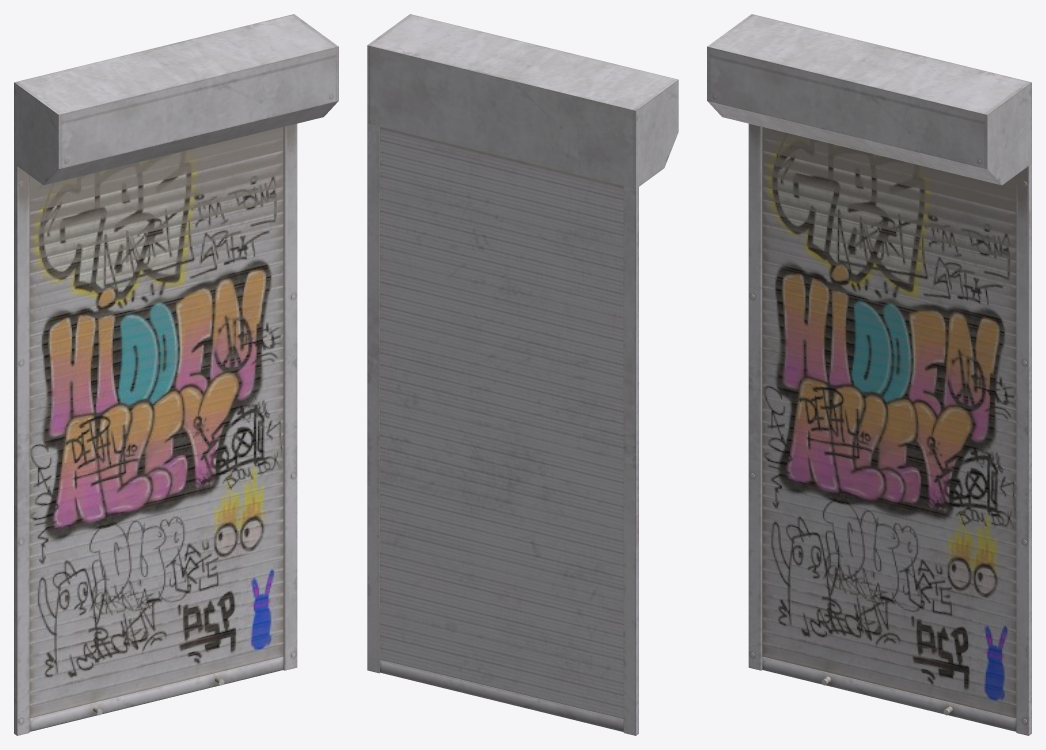
Rendered from rollershutter_door_graffiti.glb.
3 views of the same model, side by side, from view 1: azimuth 30°, elevation 25°; view 2: azimuth 150°, elevation 25°; view 3: azimuth 330°, elevation 25° (orthographic). The views are drawn at different scales.
Visible parts, largest first — view 1: rollershutter_door_graffiti; view 2: rollershutter_door_graffiti; view 3: rollershutter_door_graffiti.
Part boxes in pixels (left/top/right/bottom): rollershutter_door_graffiti: left=14, top=14, right=338, bottom=735; rollershutter_door_graffiti: left=367, top=14, right=678, bottom=735; rollershutter_door_graffiti: left=707, top=14, right=1031, bottom=735.
Bounding box in the file's own units: 1.08 × 2.4 × 0.3001.
1 material, 1 textured.
